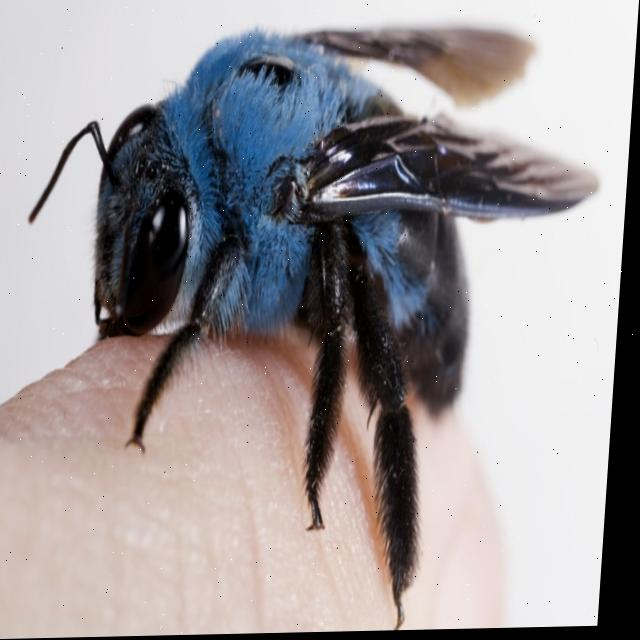Allodapula: (26, 0, 576, 605)
